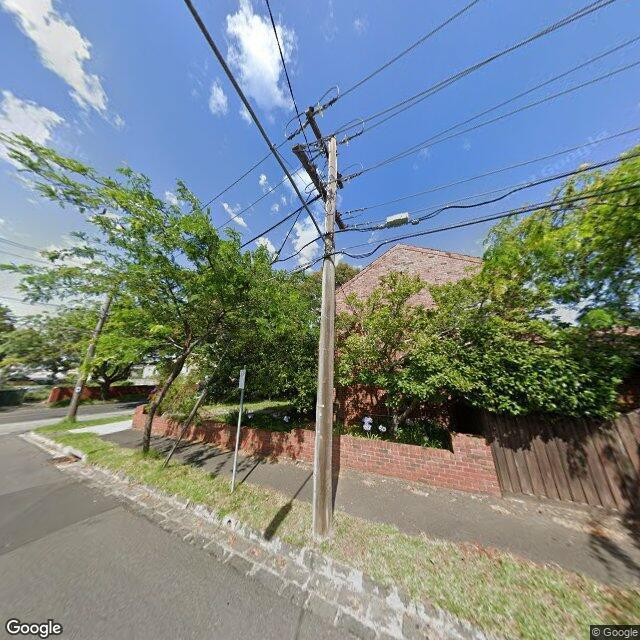HV-transmission: (286, 82, 366, 190)
crossarm: (294, 145, 362, 229), (303, 106, 344, 190)
timber-pole: (312, 136, 338, 539), (68, 294, 112, 422)
